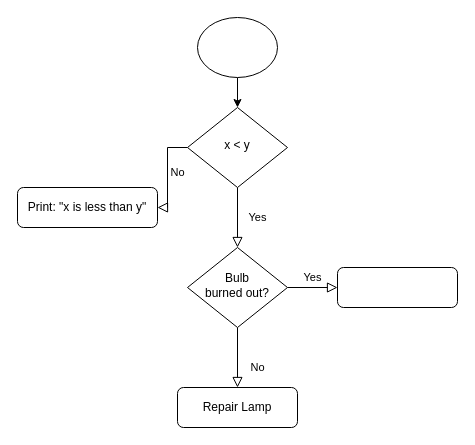
Image size: 475x445. Some labels were removed from this diagram. The shapes that lost their labels are listed below. From the top down, each one's box as (x1, y1, x2, y2) in pixels, then its label:
(196, 16, 278, 78): Start
(336, 266, 458, 308): Replace Bulb
